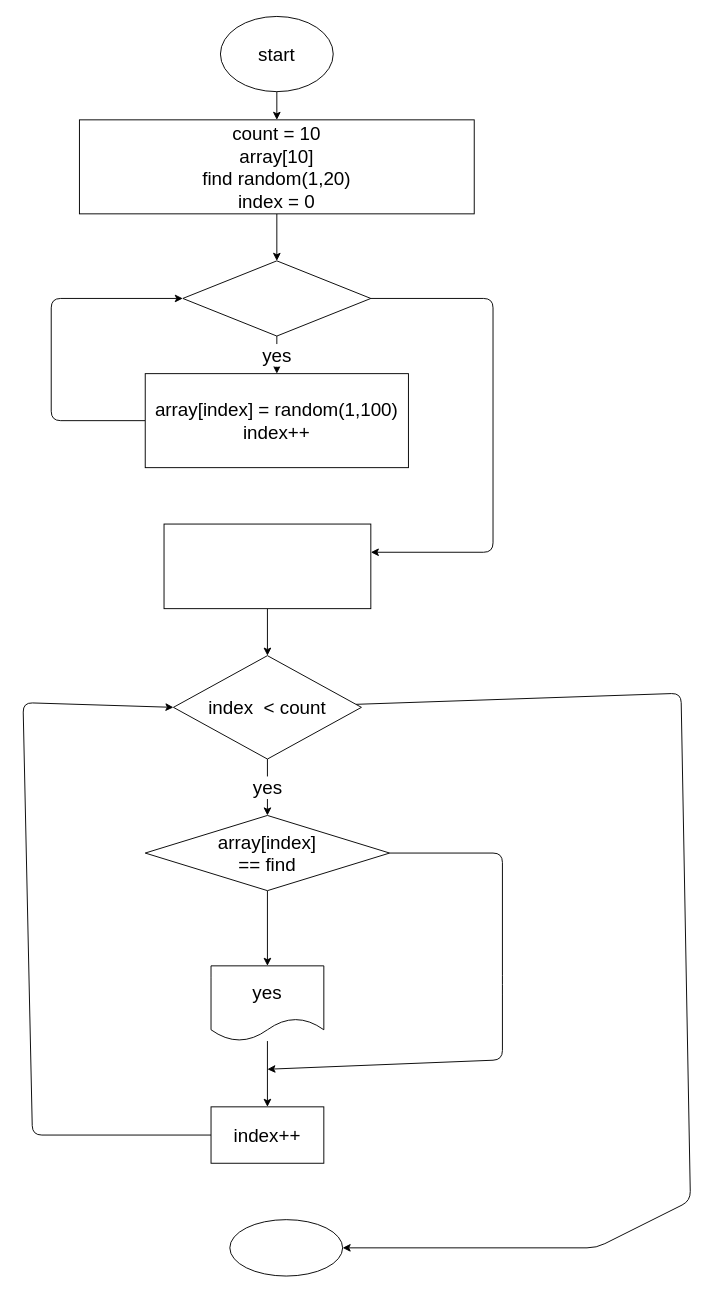
Image size: 714x1293. Some labels were removed from this diagram. Each missing label, with the centre of its shape:
end: point 286,1247
index = 0: point 267,566
index, count: point 276,298
